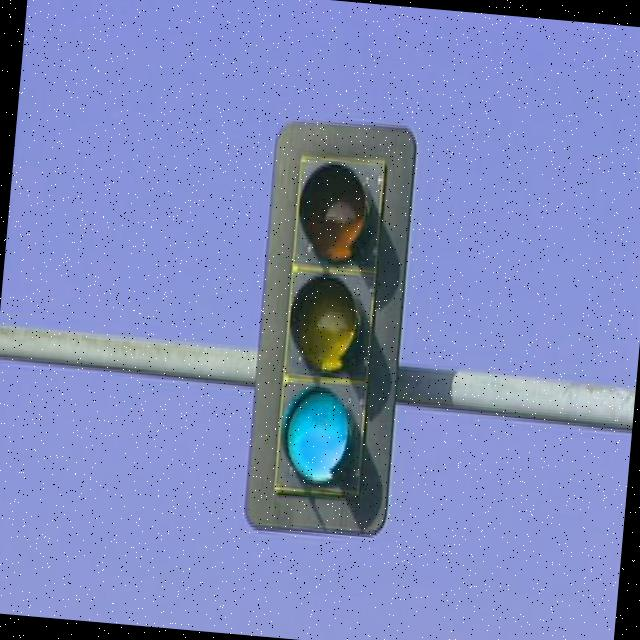Zielone swiatlo: (273, 159, 387, 492)
